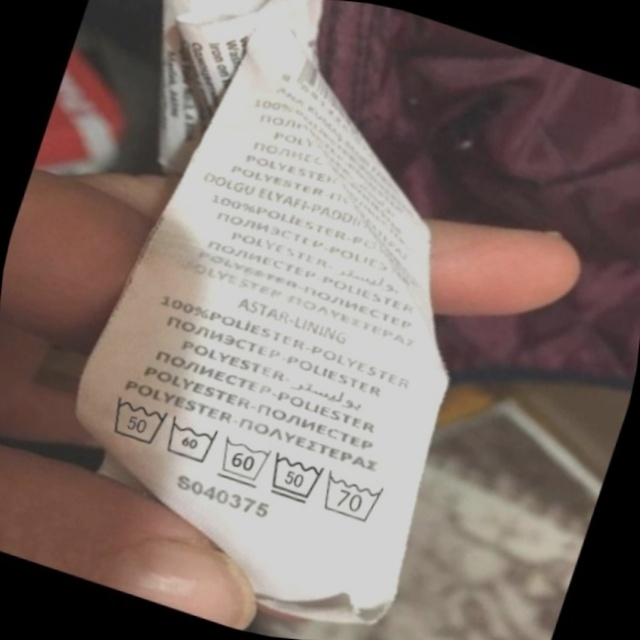50C: (97, 383, 179, 457), (258, 443, 334, 514)
60C: (209, 427, 281, 496), (156, 408, 228, 475)
70C: (313, 463, 396, 533)
